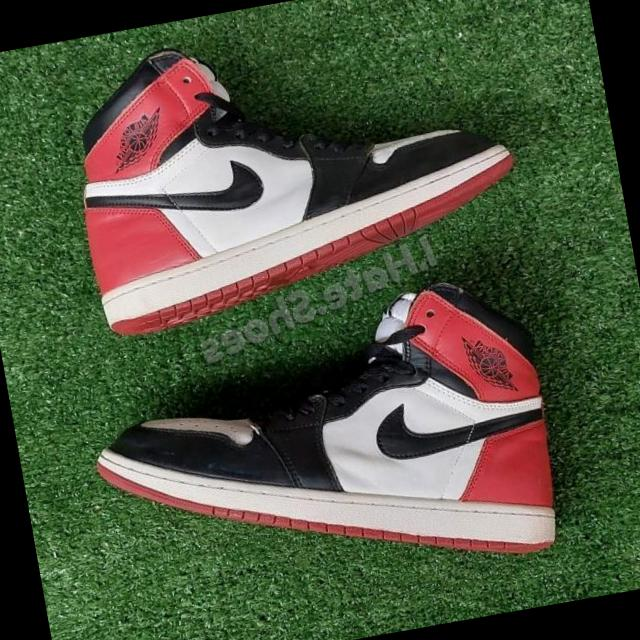nike_fake_jordan: (75, 265, 570, 625), (47, 0, 530, 334)
